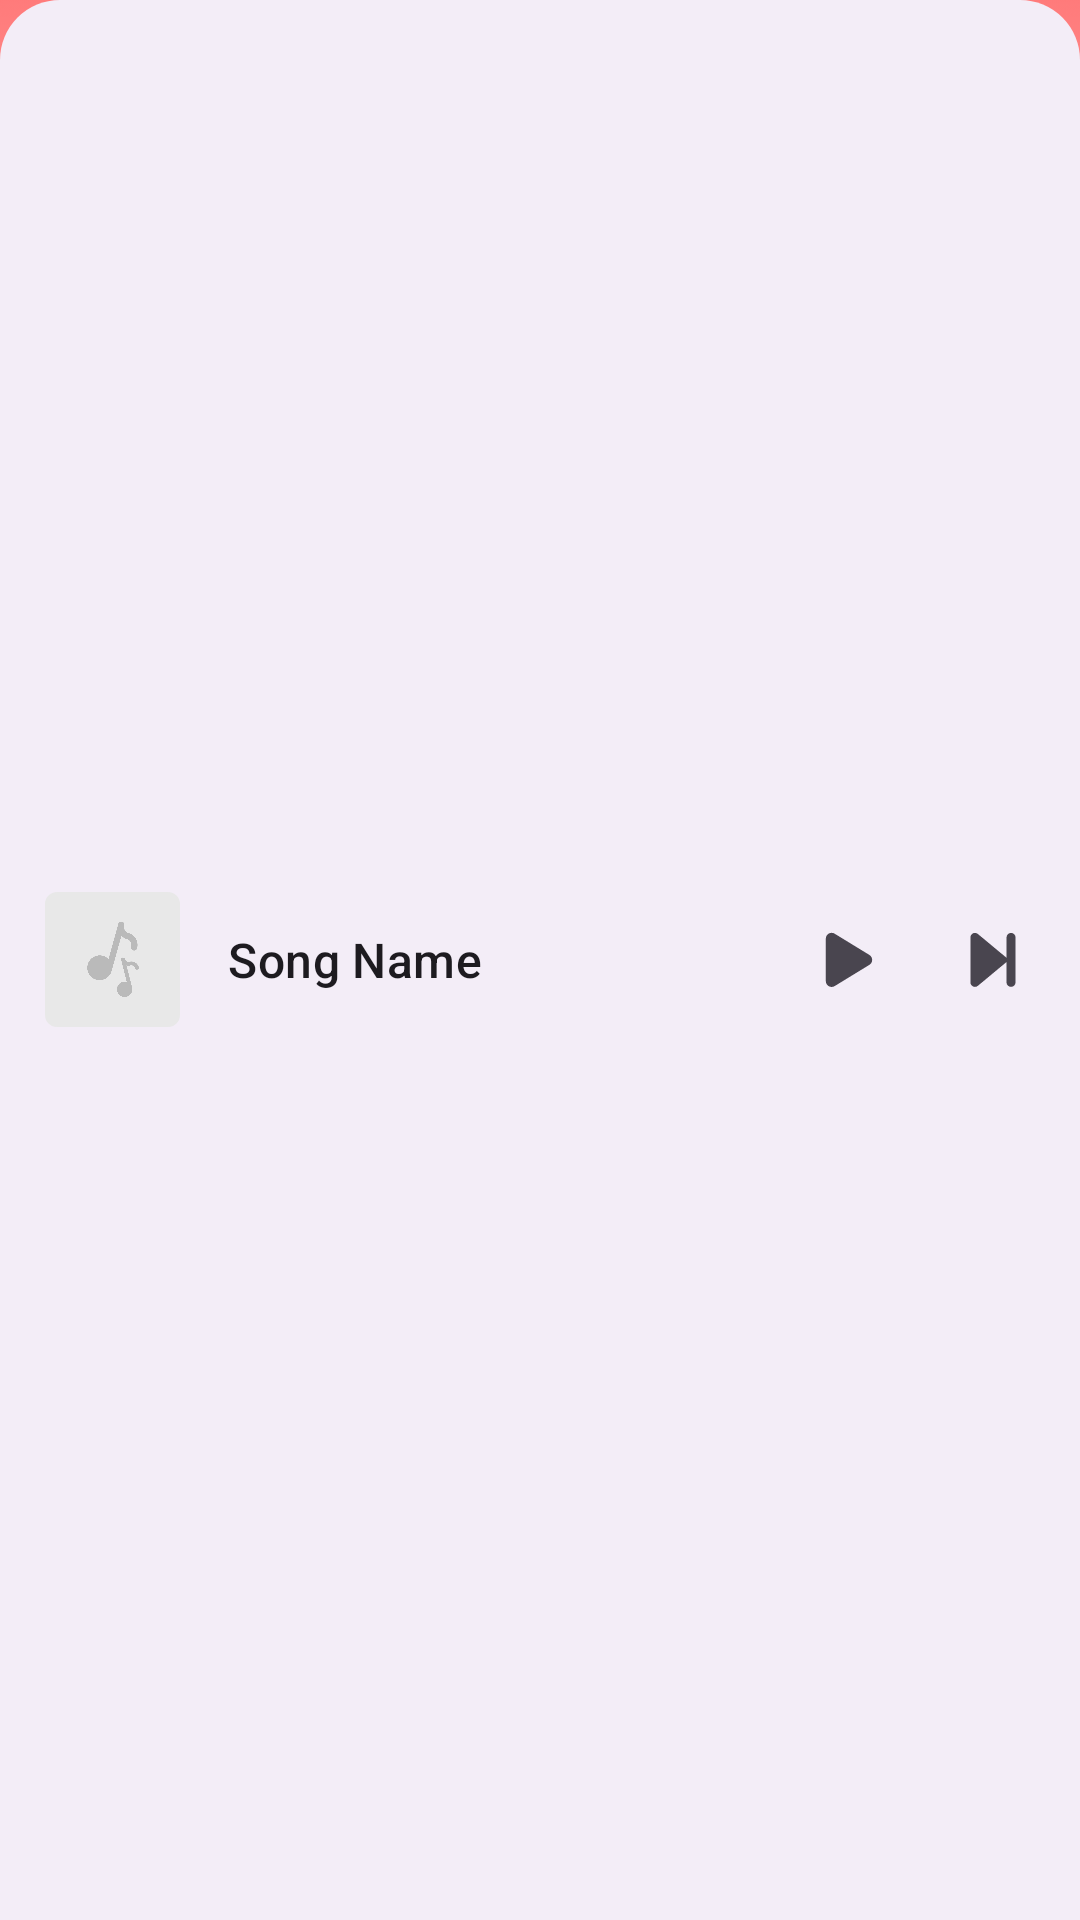

Icons on this 1080×1920 Android screen, each with its box as box=[x1, y1, x2, y2]:
Next: box=[970, 933, 1016, 987]
Play or Pause: box=[825, 932, 872, 987]
